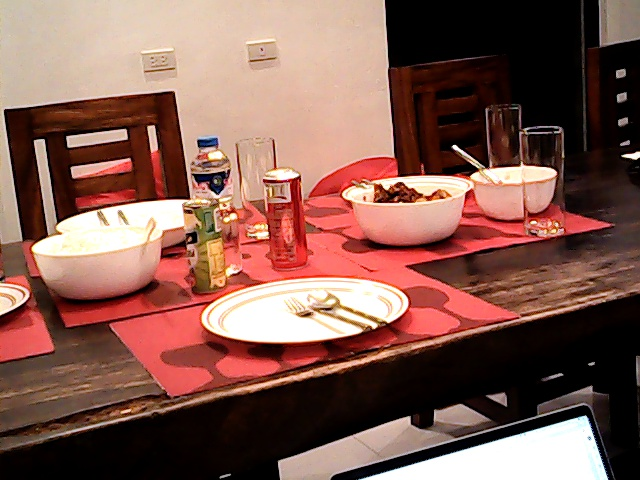Cola: (261, 159, 310, 271)
Pine Juice: (179, 193, 231, 296)
Summit Water: (188, 125, 238, 198)
